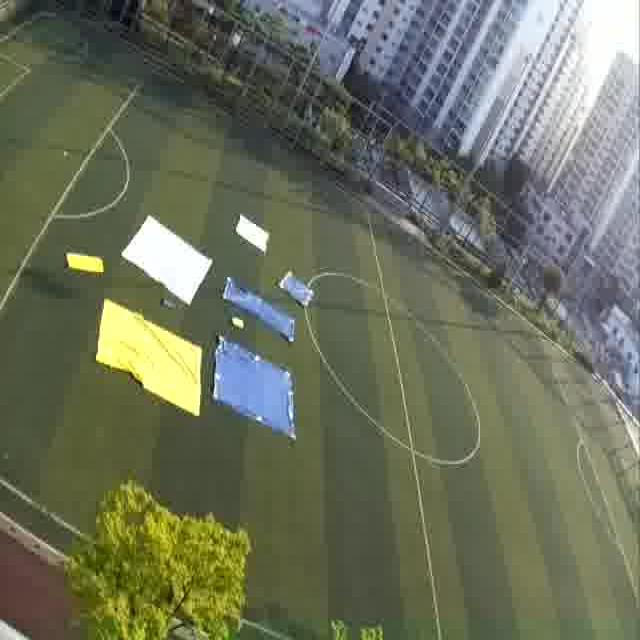danger: (216, 343, 297, 433), (277, 265, 313, 304), (224, 281, 266, 311)
safety: (129, 226, 210, 293), (230, 212, 271, 256)
warning: (98, 308, 203, 404), (64, 251, 106, 277)
